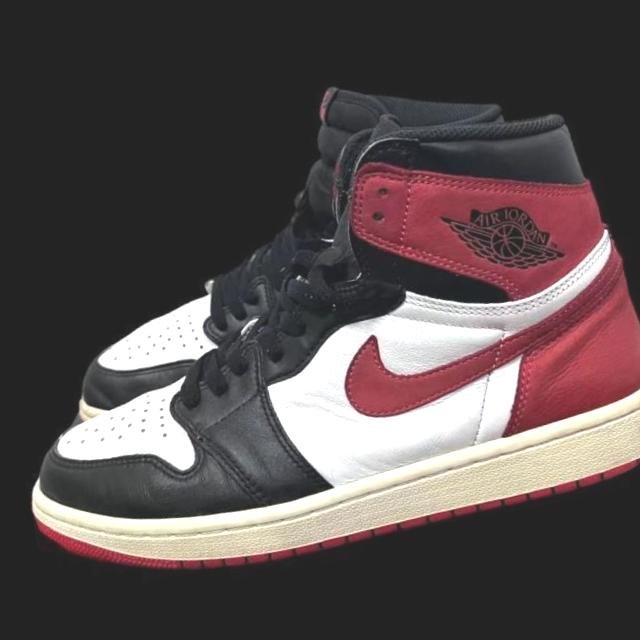nike_original_jordan: (0, 74, 640, 608), (24, 53, 550, 424)
